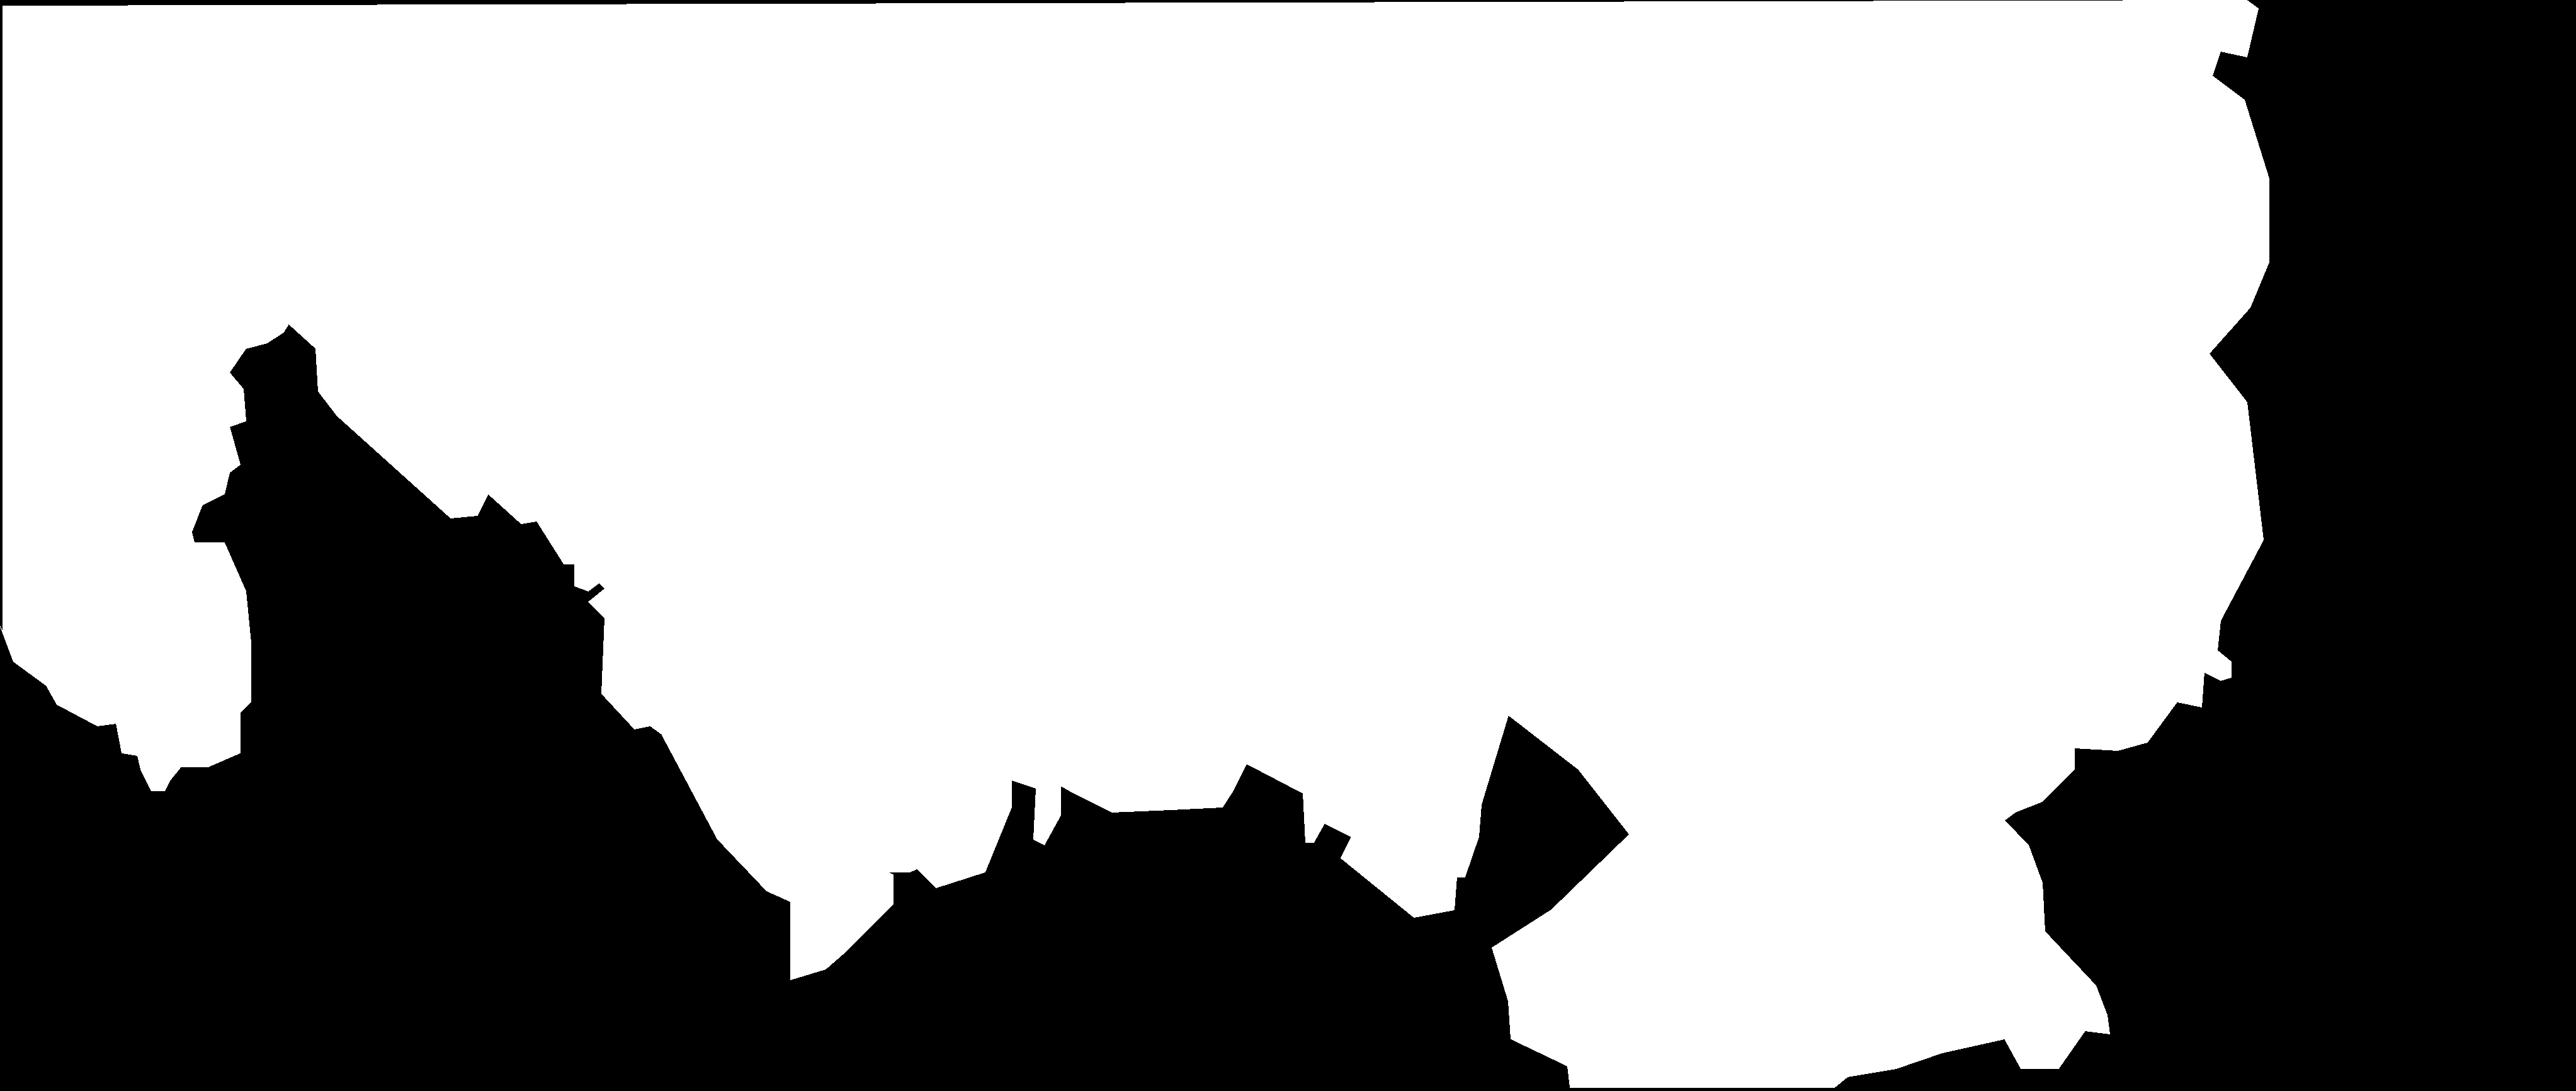Fire: (598, 130, 1641, 987), (0, 197, 287, 800), (1743, 656, 2113, 1088), (2008, 398, 2241, 757)
